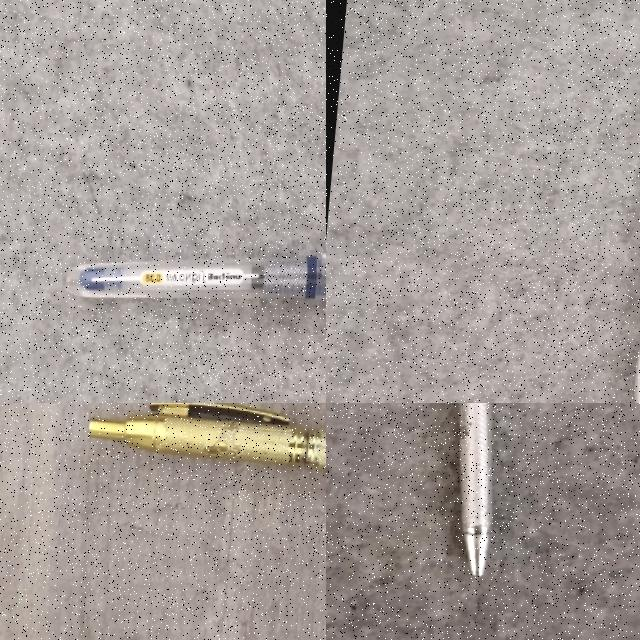pen: (66, 254, 325, 301), (635, 354, 639, 402)
signature pen: (89, 403, 325, 468), (458, 403, 491, 575)
